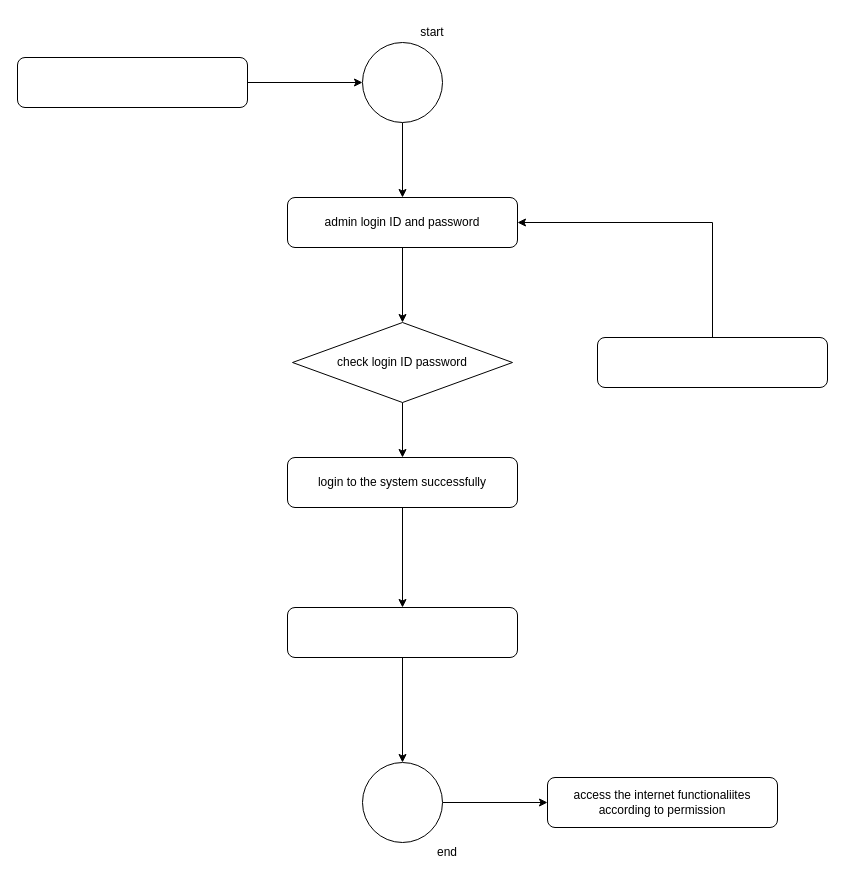
The diagram is 845 pixels wide and 884 high, and some of its shapes have lost their labels. The centre of each missing label's shape, as x and y in pixels:
admin is registered: pixel 132 82
set users level and permission: pixel 402 632
